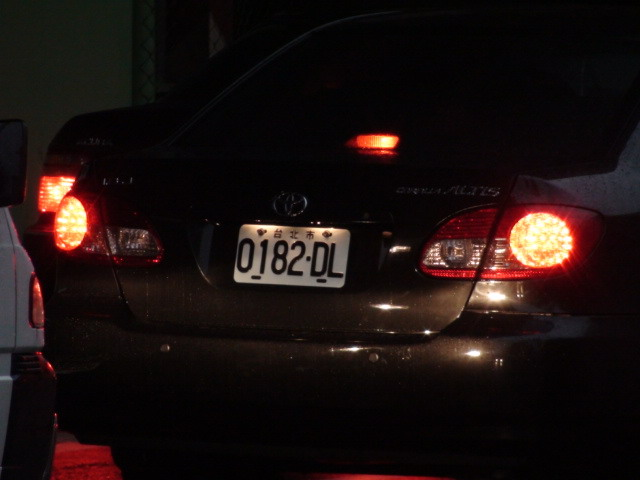plate: (228, 218, 356, 294)
